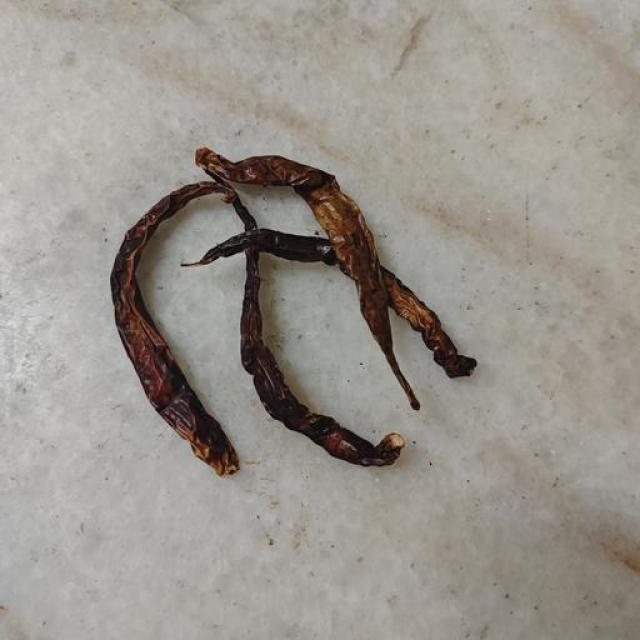organic: (112, 149, 476, 474), (197, 148, 419, 409), (112, 182, 238, 474), (183, 229, 337, 266)
